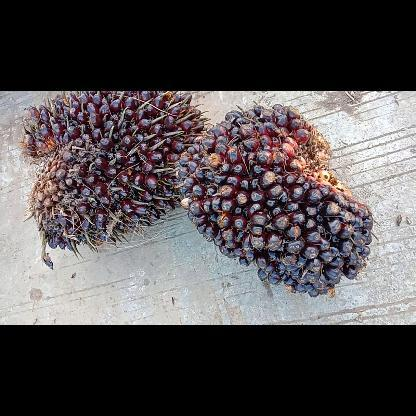TBS mentah: (180, 104, 374, 296), (20, 90, 204, 270)
